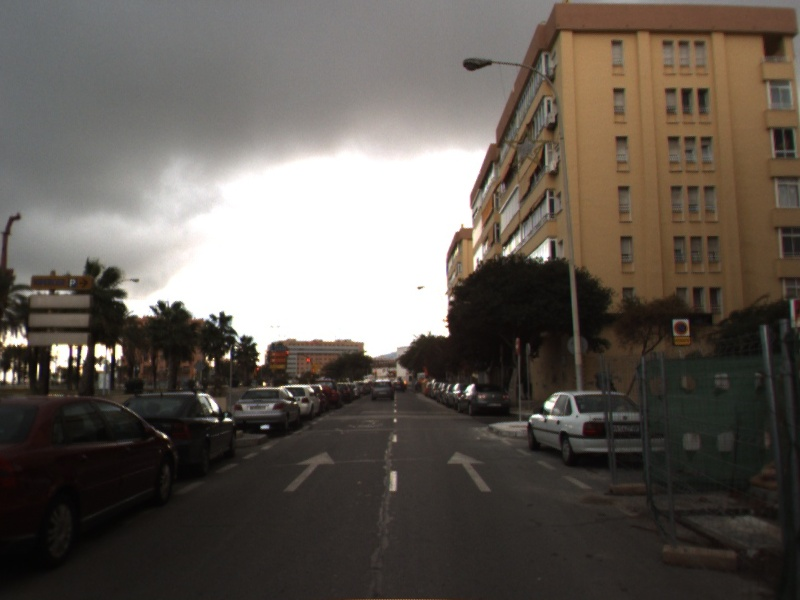STRAIGHT: (282, 450, 337, 493), (446, 450, 493, 493)
